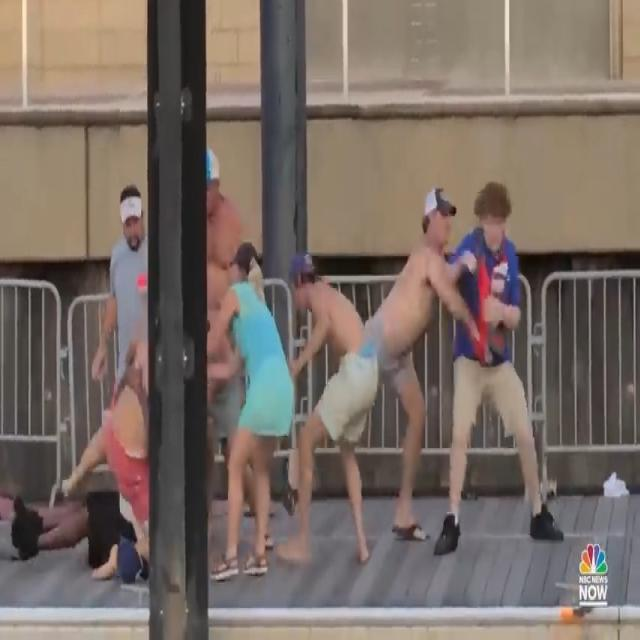fight: (13, 242, 291, 590), (362, 172, 578, 553)
